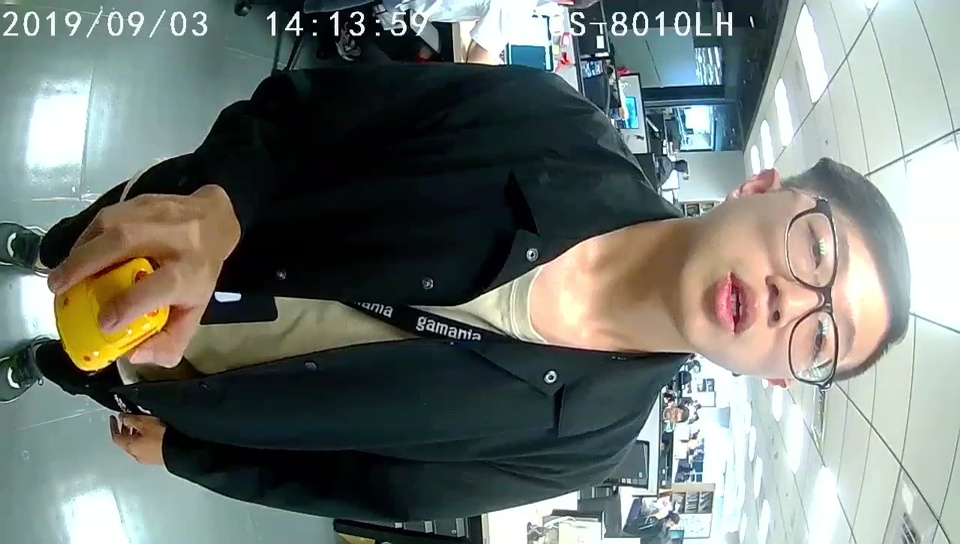car: (52, 257, 169, 372)
